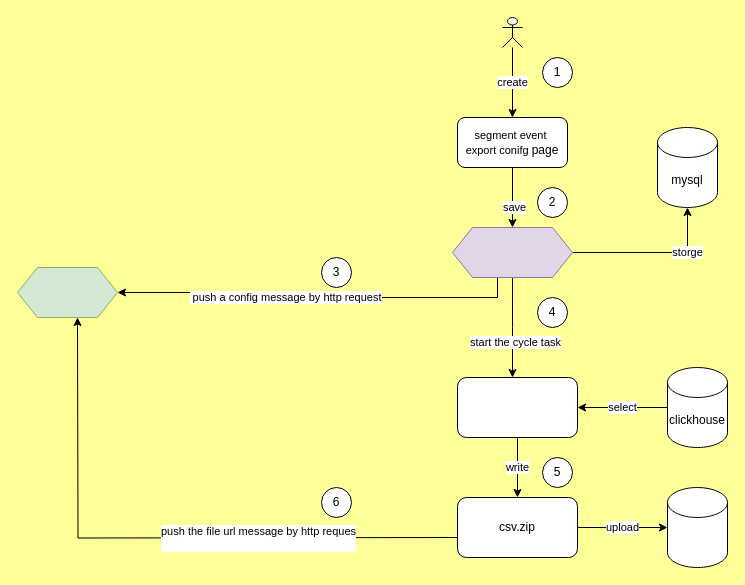
This 745x585 diagram has some shape labels left out. Here are the shapes that lost their labels. From the top down, the centre of each, then its label:
At point 512,32: "Actor".
At point 512,252: "cdp application".
At point 67,292: "crm application".
At point 517,407: "extcute a segment event export config task".
At point 697,527: "s3".
